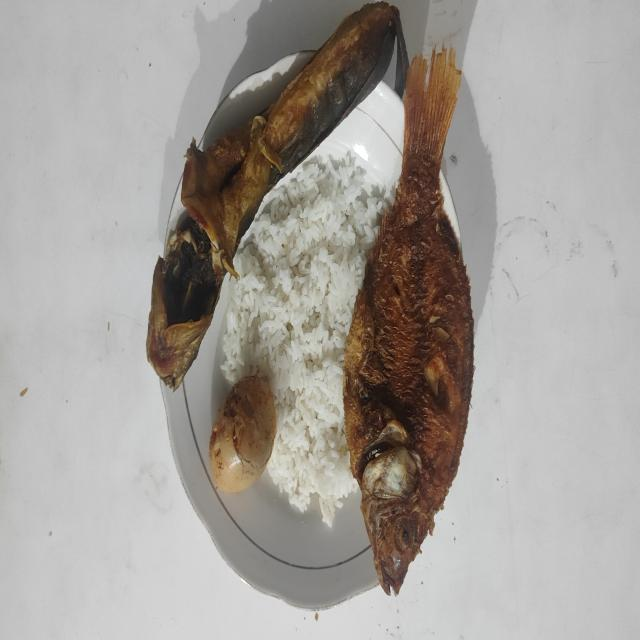ikan_mujair: (343, 48, 474, 594)
nasi_putih: (220, 152, 398, 526)
